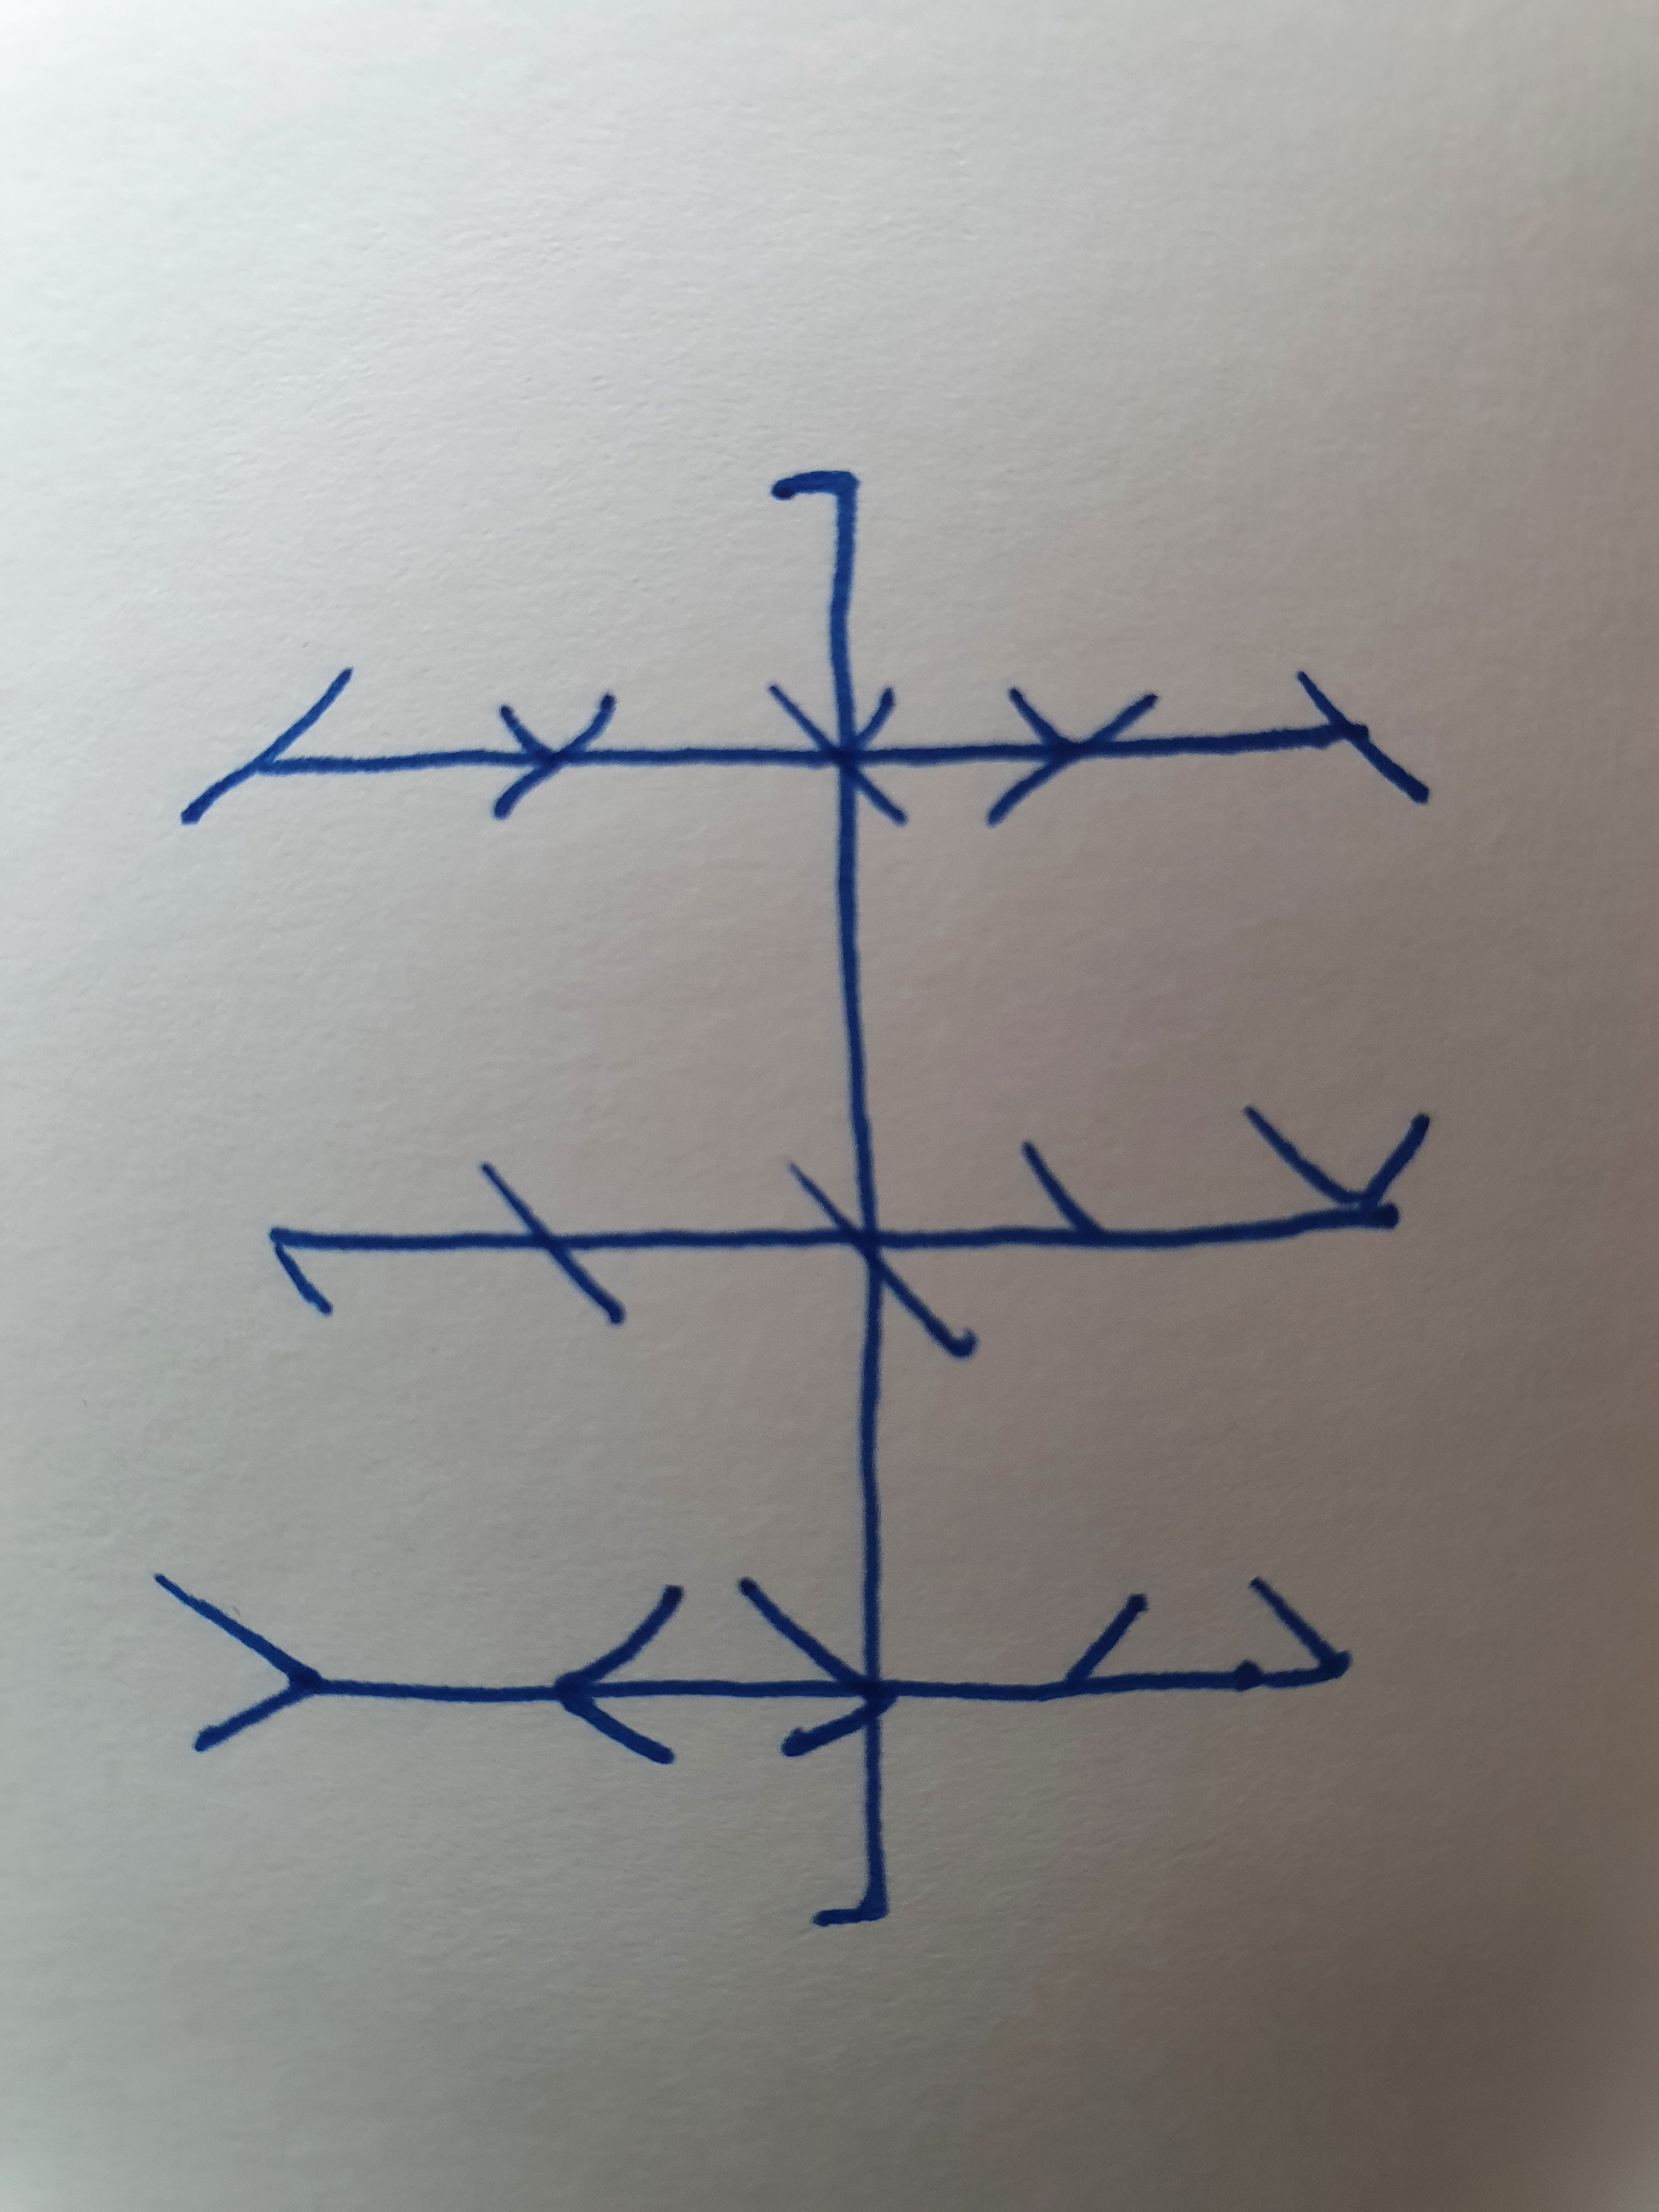Bar: (268, 1106, 1431, 1360), (150, 1571, 1356, 1764), (176, 665, 1431, 827)
Barcode: (152, 469, 1434, 1930)
End: (810, 1749, 892, 1928)
Start: (765, 470, 863, 679)
